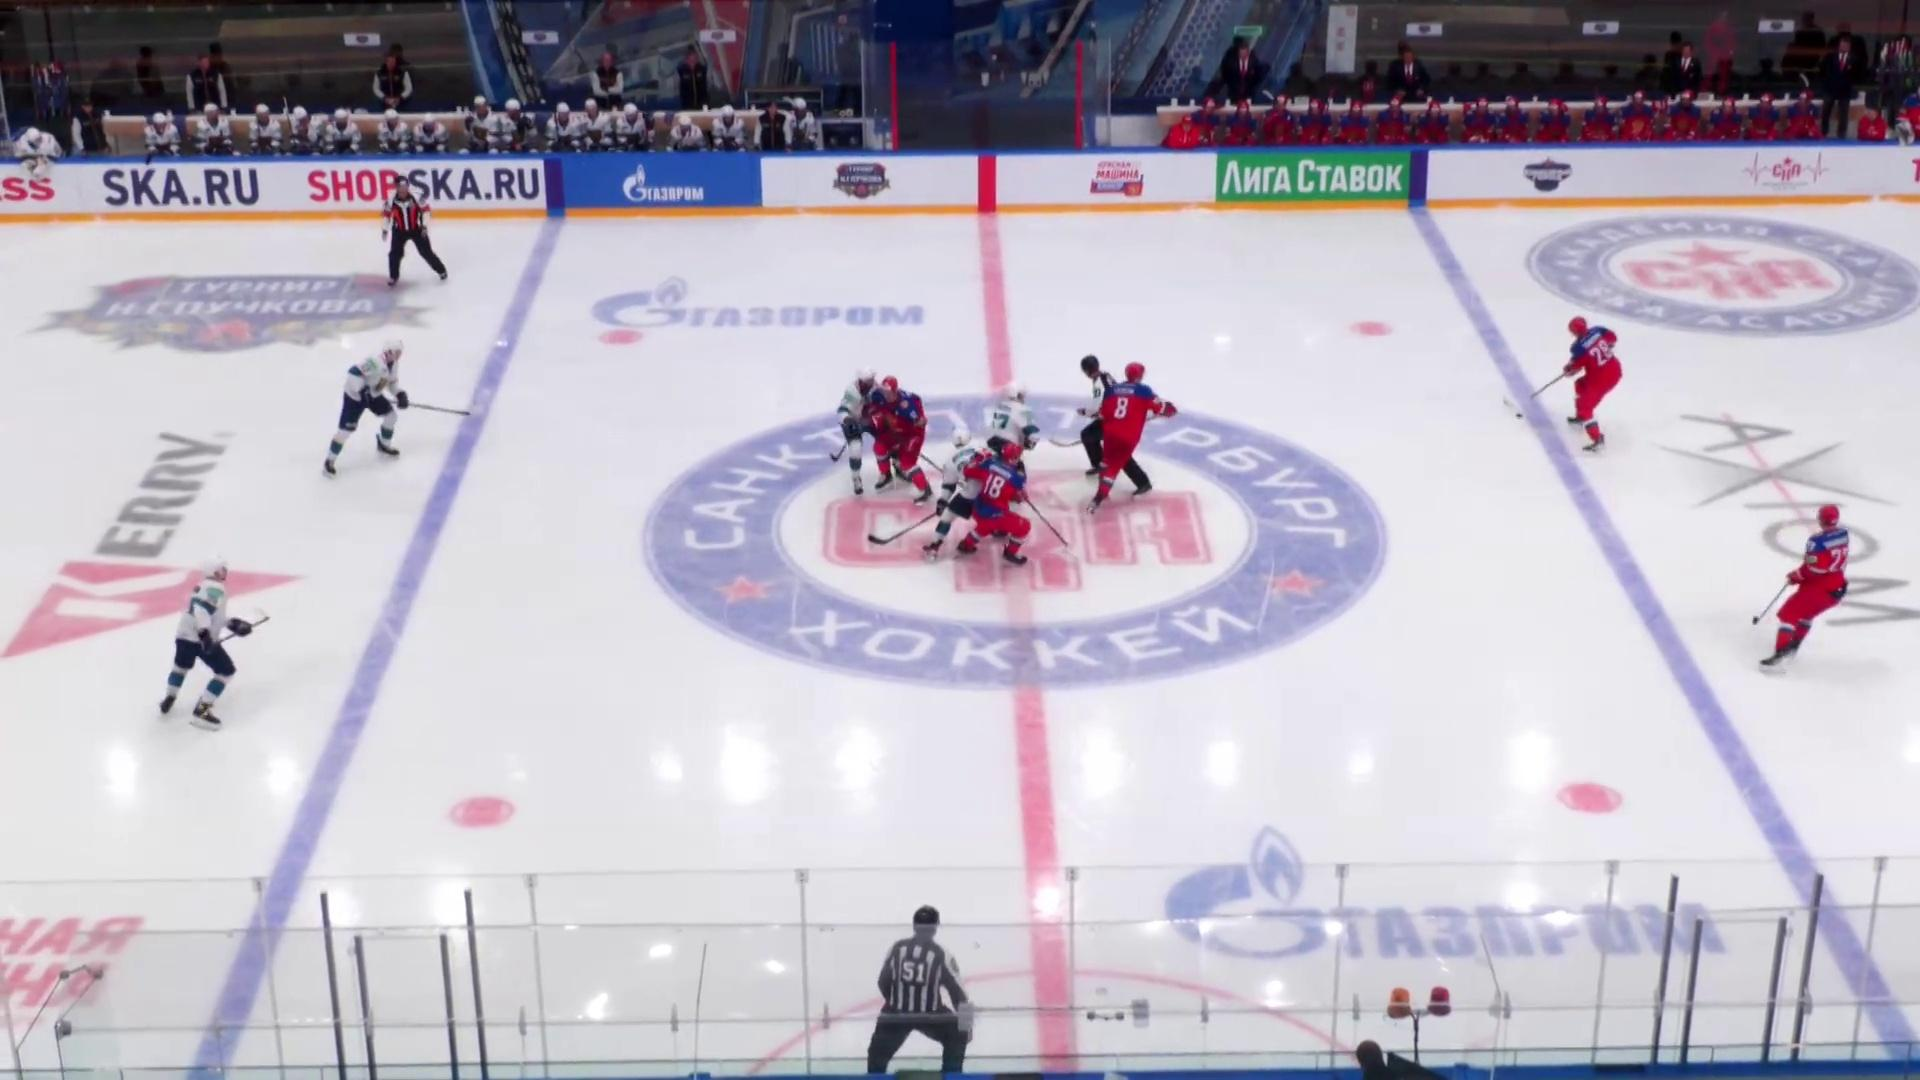ball: (1515, 413, 1523, 419)
